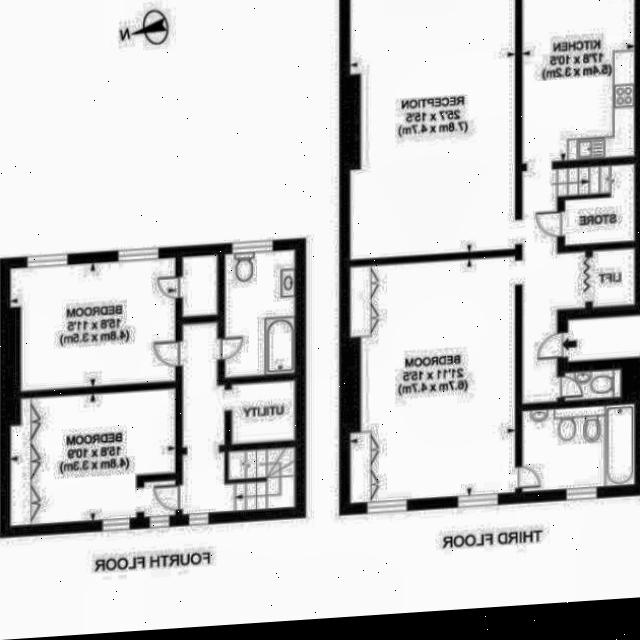room: (351, 0, 635, 403), (351, 257, 514, 503), (3, 255, 226, 391), (4, 388, 183, 526), (183, 322, 295, 515), (519, 404, 639, 491), (225, 251, 294, 377), (565, 163, 635, 247), (564, 370, 623, 401)
